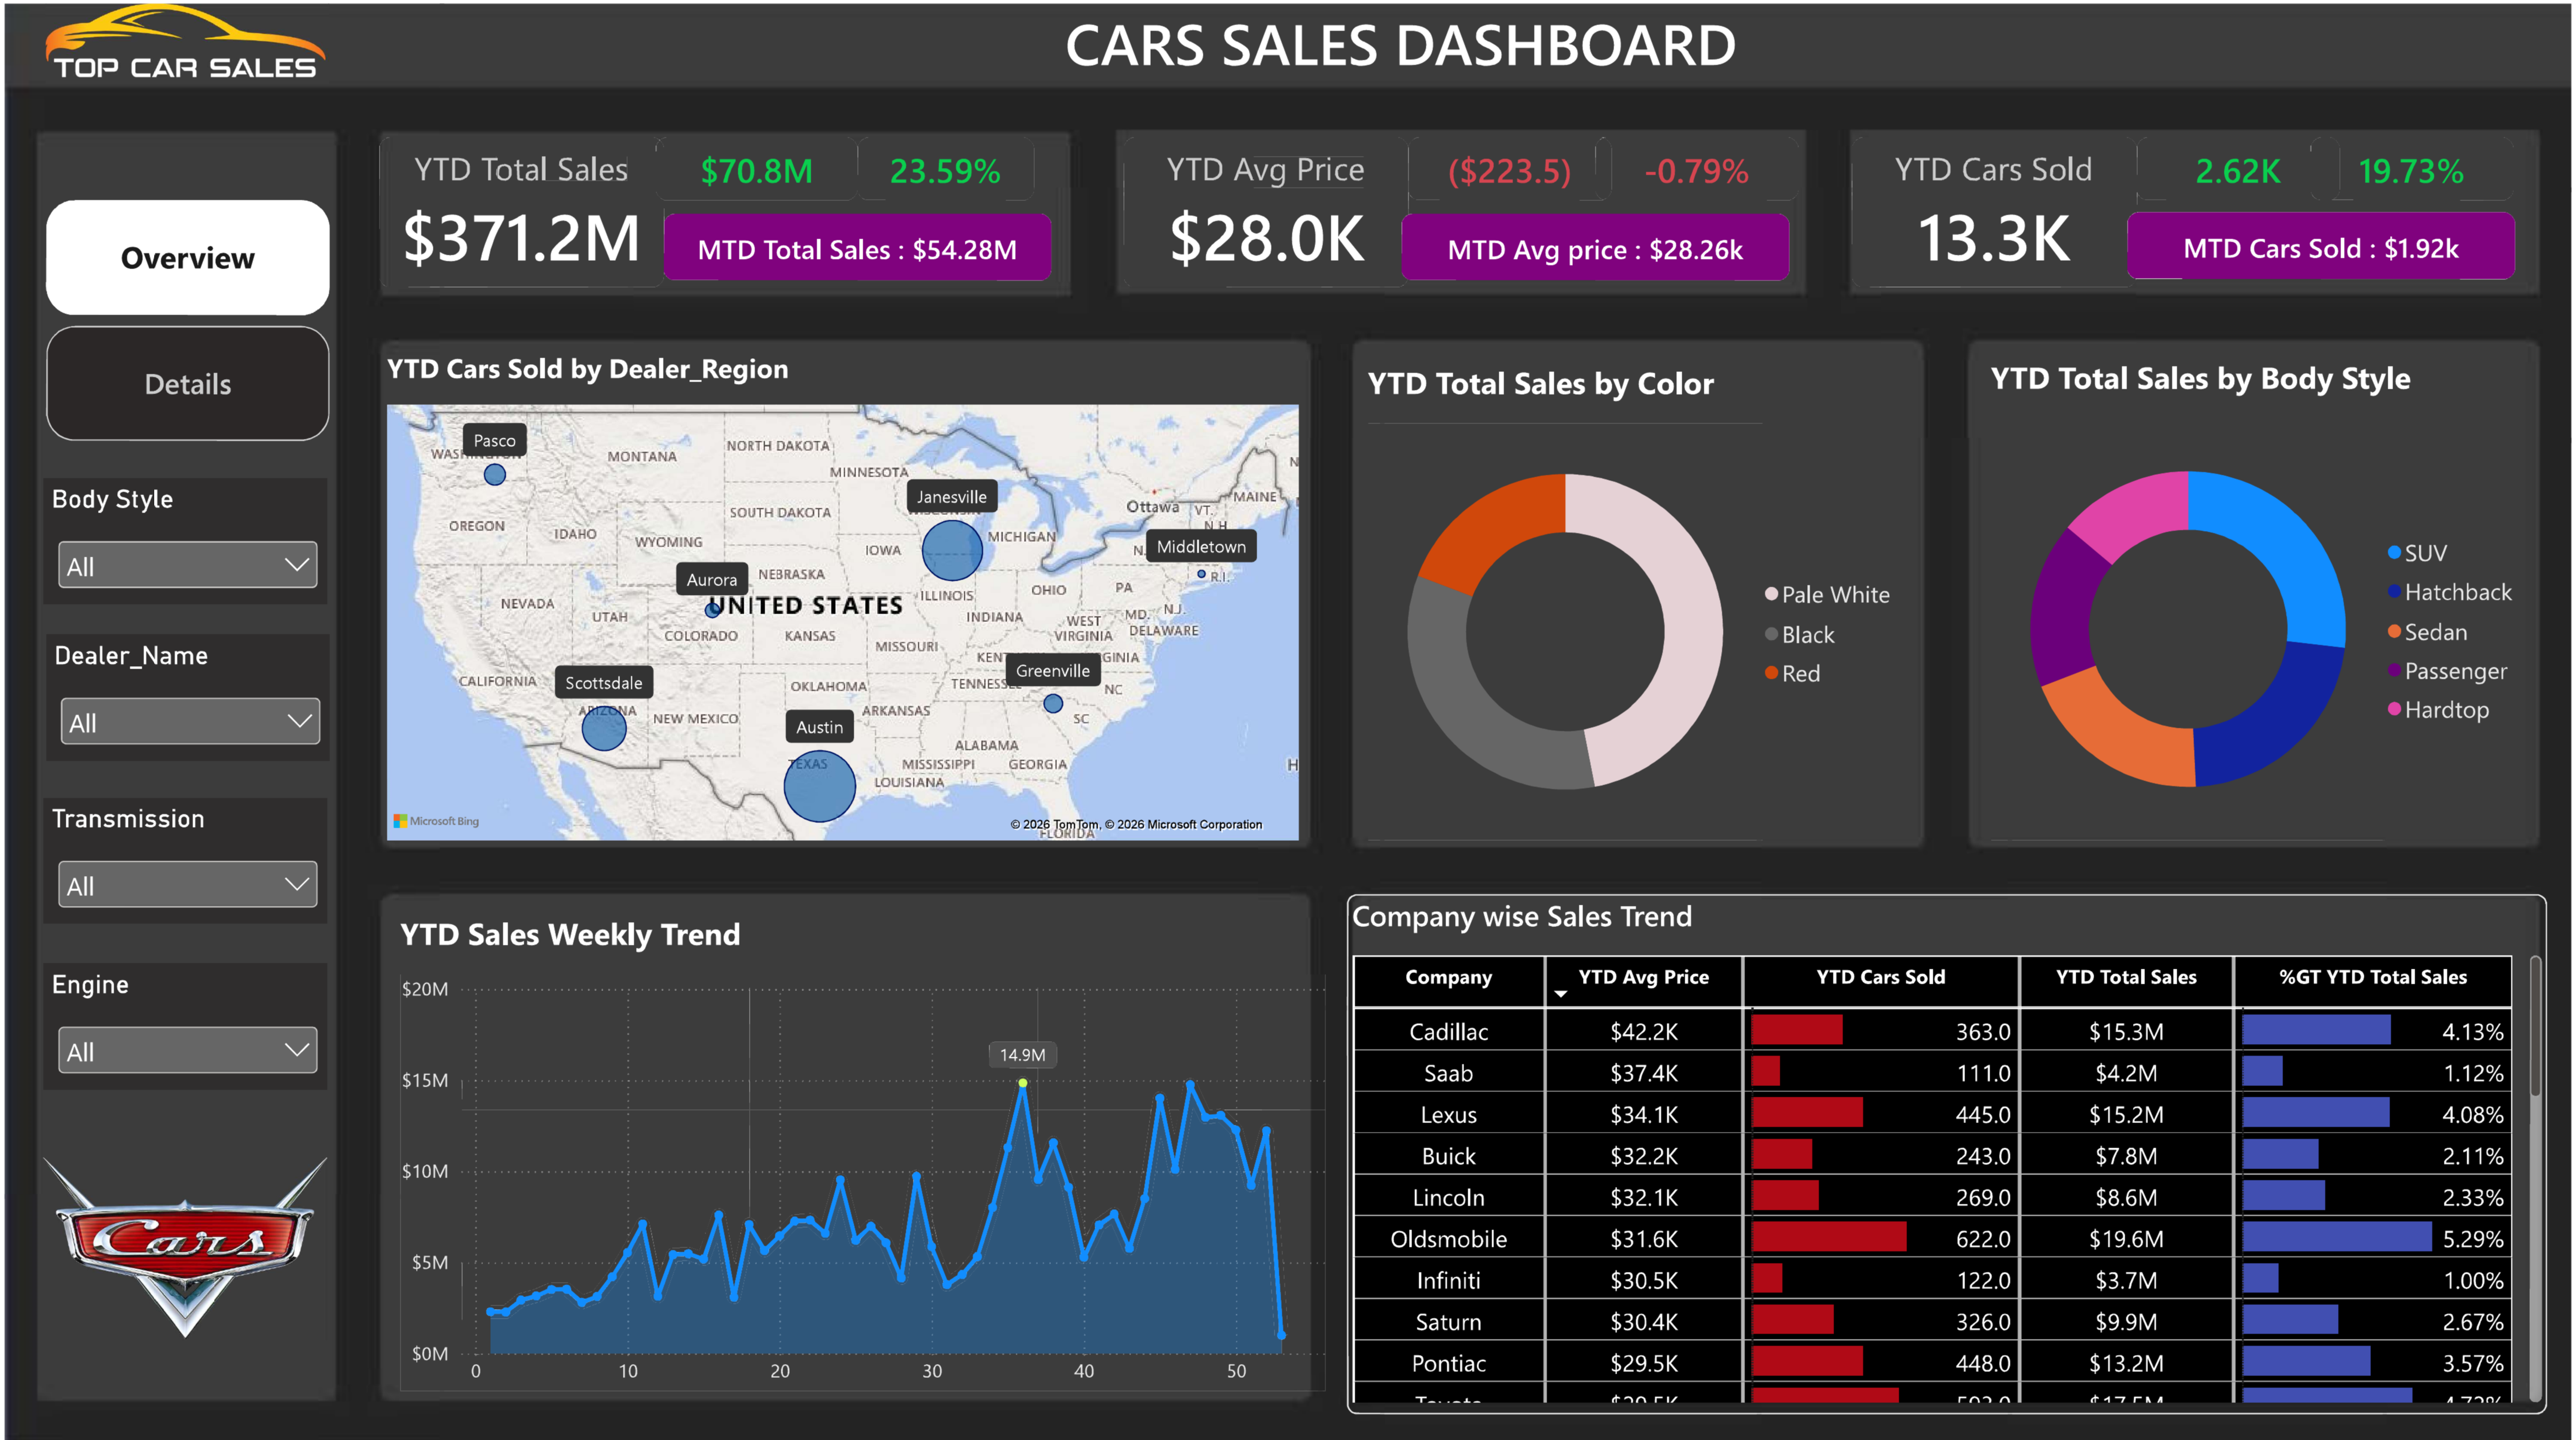

What the dashboard file says about the page in this screenshot:
{"tool":"powerbi","page":{"name":"Overview","canvas":[1920,1080],"ordinal":0},"visuals":[{"type":"cardVisual","fields":{"Data":["car_data.YTD Total Sales"]},"box":[280,100,213.3,111.7],"z":0},{"type":"cardVisual","fields":{"Data":["car_data.Sales Difference"]},"box":[486.7,100,151.7,46.7],"z":1000},{"type":"cardVisual","fields":{"Data":["car_data.YoY Sales Growth"]},"box":[638.3,100,131.7,46.7],"z":2000},{"type":"cardVisual","fields":{"Data":["car_data.MID KPI"]},"box":[493.3,156.7,290,50],"z":3000},{"type":"cardVisual","fields":{"Data":["car_data.YTD Avg Price"]},"box":[836.7,100,213.3,111.7],"z":4000},{"type":"cardVisual","fields":{"Data":["car_data.Avg Prince Diff"]},"box":[1050,100,151.7,46.7],"z":5000},{"type":"cardVisual","fields":{"Data":["car_data.YoY Avg price Growth"]},"box":[1190,100,151.7,46.7],"z":6000},{"type":"cardVisual","fields":{"Data":["car_data.MTD Abg Price KPI"]},"box":[1045,156.7,290,50],"z":7000},{"type":"cardVisual","fields":{"Data":["car_data.YTD Cars Sold"]},"box":[1381.7,100,213.3,111.7],"z":8000},{"type":"cardVisual","fields":{"Data":["car_data.Cars Sold Diff"]},"box":[1595,100,151.7,46.7],"z":9000},{"type":"cardVisual","fields":{"Data":["car_data.YoY Car Sold Growth"]},"box":[1725,100,151.7,46.7],"z":10000},{"type":"cardVisual","fields":{"Data":["car_data.MTD Cars Sold KPI"]},"box":[1588,156,290,50],"z":11000},{"type":"areaChart","title":"YTD Sales Weekly Trend","fields":{"Category":["Calendar Table.Week"],"Y":["Sum(car_data.Price ($))","car_data.Max Point"]},"box":[280,666,724,388],"z":12000},{"type":"donutChart","fields":{"Category":["car_data.Body Style"],"Y":["car_data.YTD Total Sales"]},"box":[1470,250,432,392],"z":13000},{"type":"donutChart","fields":{"Y":["car_data.YTD Total Sales"],"Category":["car_data.Color"]},"box":[1004,254,432,388],"z":14000},{"type":"map","fields":{"Category":["car_data.Dealer_Region"],"Size":["car_data.YTD Cars Sold"]},"box":[270,244,714,398],"z":15000},{"type":"tableEx","title":"Company wise Sales Trend","fields":{"Values":["car_data.Company","car_data.YTD Avg Price","car_data.YTD Cars Sold","car_data.YTD Total Sales1","car_data.YTD Total Sales"]},"box":[1004,666,898,389],"z":16000},{"type":"textbox","box":[778,0,536,72],"z":17000},{"type":"slicer","title":"Body Style","fields":{"Values":["car_data.Body Style"]},"box":[29,354.7,212,94],"z":18000},{"type":"slicer","title":"Dealer_Name","fields":{"Values":["car_data.Dealer_Name"]},"box":[30.8,472.3,212,94],"z":19000},{"type":"slicer","title":"Transmission","fields":{"Values":["car_data.Transmission"]},"box":[29,593.6,212,94],"z":20000},{"type":"slicer","title":"Engine","fields":{"Values":["car_data.Engine"]},"box":[29,718.4,212,94],"z":21000},{"type":"pageNavigator","box":[30.8,146.6,212,180],"z":22000},{"type":"image","box":[29,839.7,211.7,182.8],"z":22001},{"type":"image","box":[30.8,0,211.7,59.7],"z":22002}]}

Visuals, with their boxes in screenshot pixels (x1, y1, x2, y2), scaled from the page's 1920x1080 canvas onto the 2576x1440 screenshot:
cardVisual - car_data.YTD Total Sales: box(375, 133, 662, 282)
cardVisual - car_data.Sales Difference: box(653, 133, 857, 196)
cardVisual - car_data.YoY Sales Growth: box(857, 133, 1033, 196)
cardVisual - car_data.MID KPI: box(662, 209, 1051, 276)
cardVisual - car_data.YTD Avg Price: box(1123, 133, 1408, 282)
cardVisual - car_data.Avg Prince Diff: box(1408, 133, 1612, 196)
cardVisual - car_data.YoY Avg price Growth: box(1597, 133, 1800, 196)
cardVisual - car_data.MTD Abg Price KPI: box(1402, 209, 1791, 276)
cardVisual - car_data.YTD Cars Sold: box(1854, 133, 2140, 282)
cardVisual - car_data.Cars Sold Diff: box(2140, 133, 2343, 196)
cardVisual - car_data.YoY Car Sold Growth: box(2314, 133, 2518, 196)
cardVisual - car_data.MTD Cars Sold KPI: box(2131, 208, 2520, 274)
"YTD Sales Weekly Trend" areaChart: box(375, 888, 1347, 1405)
donutChart - car_data.Body Style x car_data.YTD Total Sales: box(1972, 333, 2552, 856)
donutChart - car_data.YTD Total Sales x car_data.Color: box(1347, 338, 1927, 856)
map - car_data.Dealer_Region x car_data.YTD Cars Sold: box(362, 325, 1320, 856)
"Company wise Sales Trend" tableEx: box(1347, 888, 2552, 1407)
textbox: box(1044, 0, 1763, 96)
"Body Style" slicer: box(39, 473, 323, 598)
"Dealer_Name" slicer: box(41, 630, 326, 755)
"Transmission" slicer: box(39, 792, 323, 917)
"Engine" slicer: box(39, 958, 323, 1083)
pageNavigator: box(41, 196, 326, 435)
image: box(39, 1119, 323, 1363)
image: box(41, 0, 325, 80)
